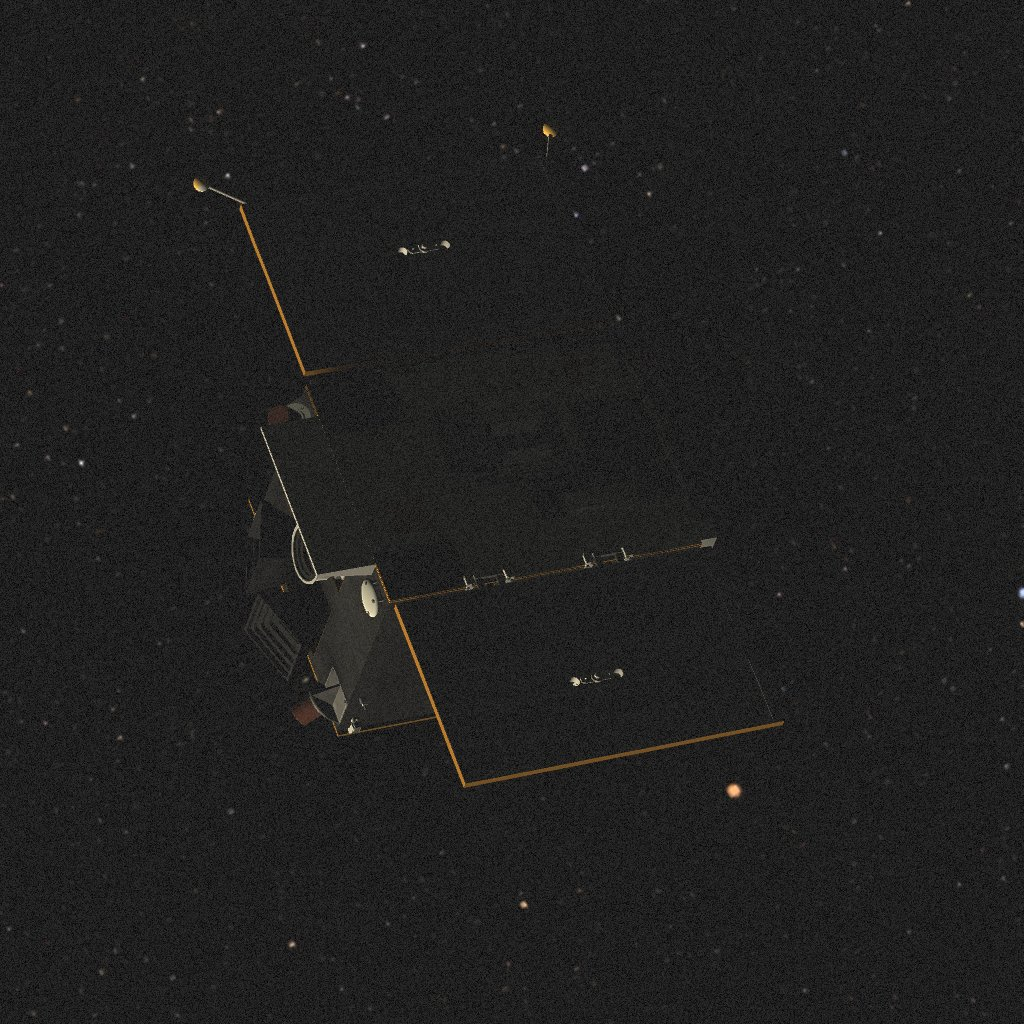proba_2: (194, 121, 784, 788)
